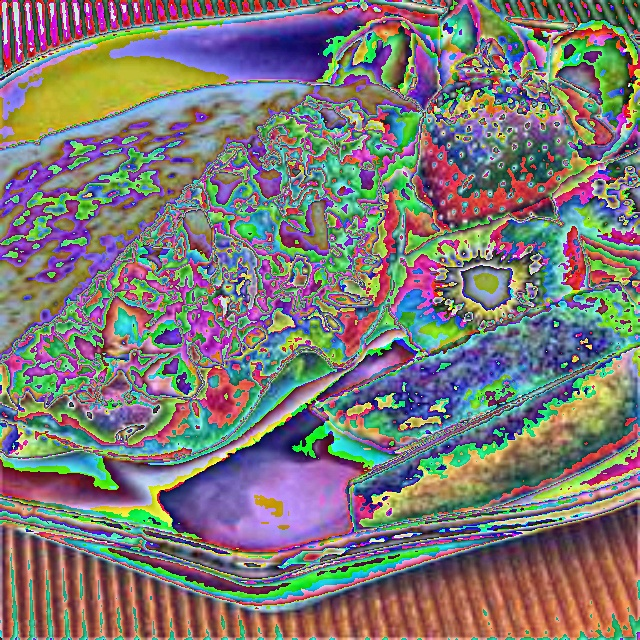background: (0, 0, 640, 530)
